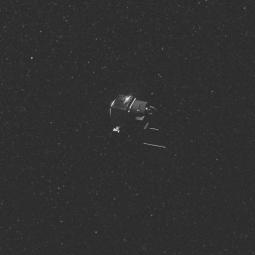earth_observation_sat_1: (102, 91, 166, 143)
